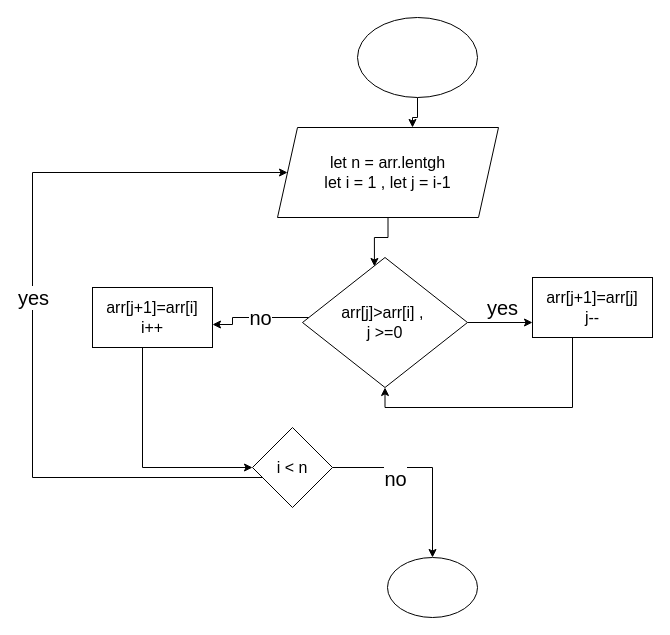
This 670x635 diagram has some shape labels left out. Here are the shapes that lost their labels. From the top down, the box of each, then its label:
(356, 16, 478, 98): start
(386, 556, 478, 618): end
